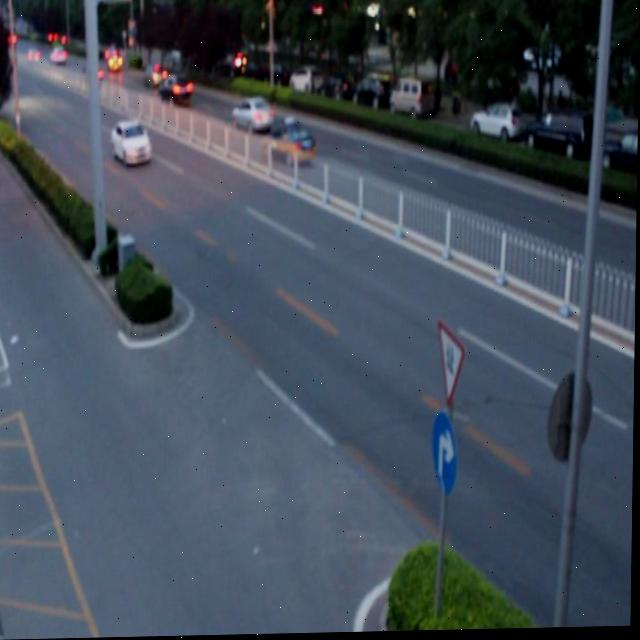car: (267, 122, 315, 165), (232, 94, 276, 134), (113, 122, 153, 164), (160, 72, 195, 108), (145, 61, 172, 90)
